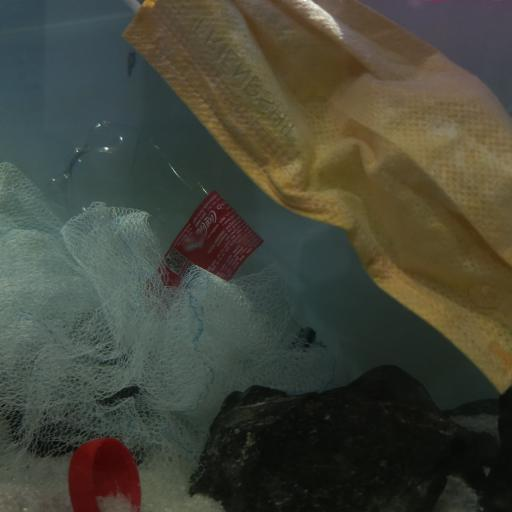bottle_cap: (69, 435, 143, 512)
mask: (117, 0, 512, 396)
net: (0, 161, 339, 485)
plastic_bottle: (50, 116, 328, 355)
